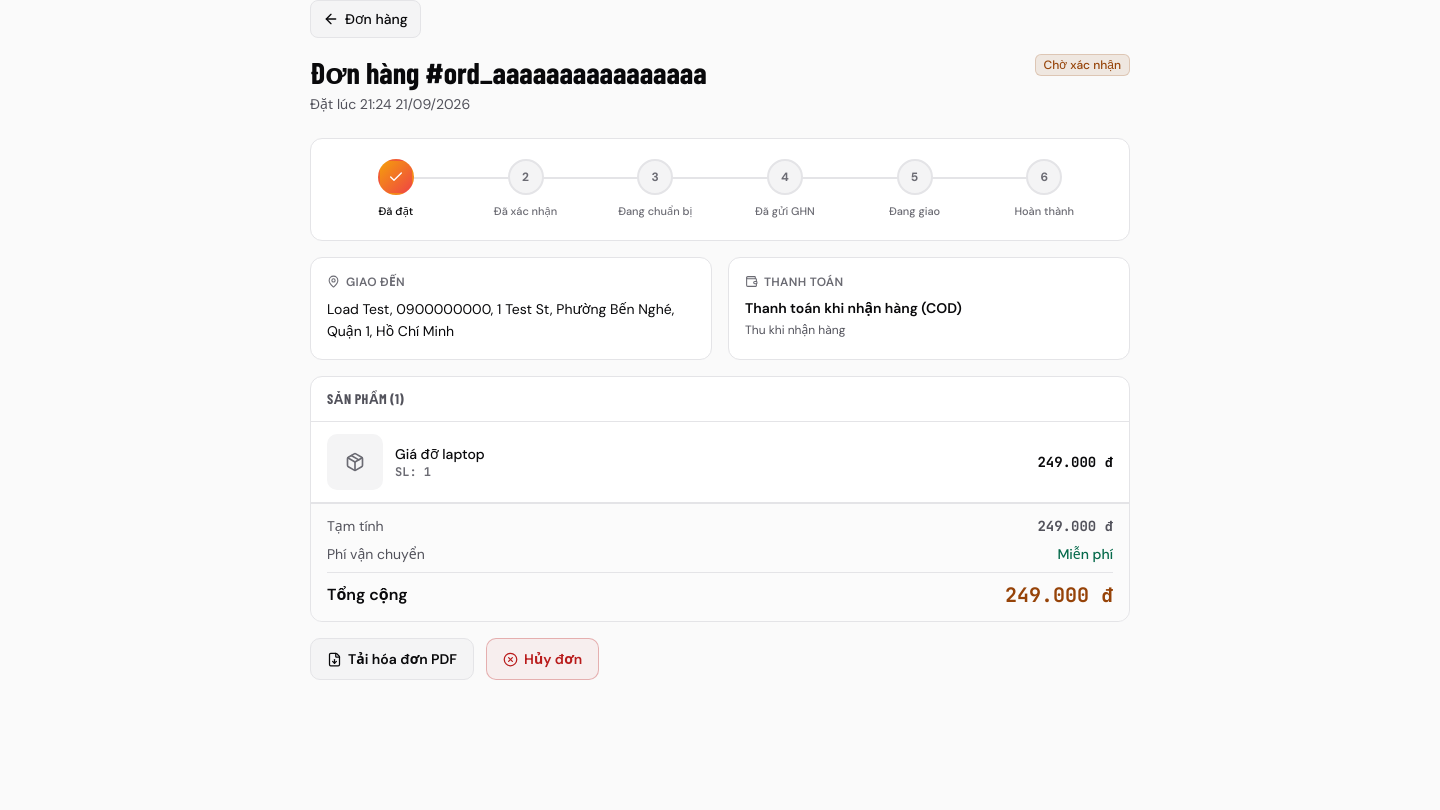
Test: OrderDetailPage cancel › asks before cancelling and sends nothing when the buyer keeps the order
Click the button "Hủy đơn". click: (543, 659)
box: x1=486 y1=638 x2=599 y2=680
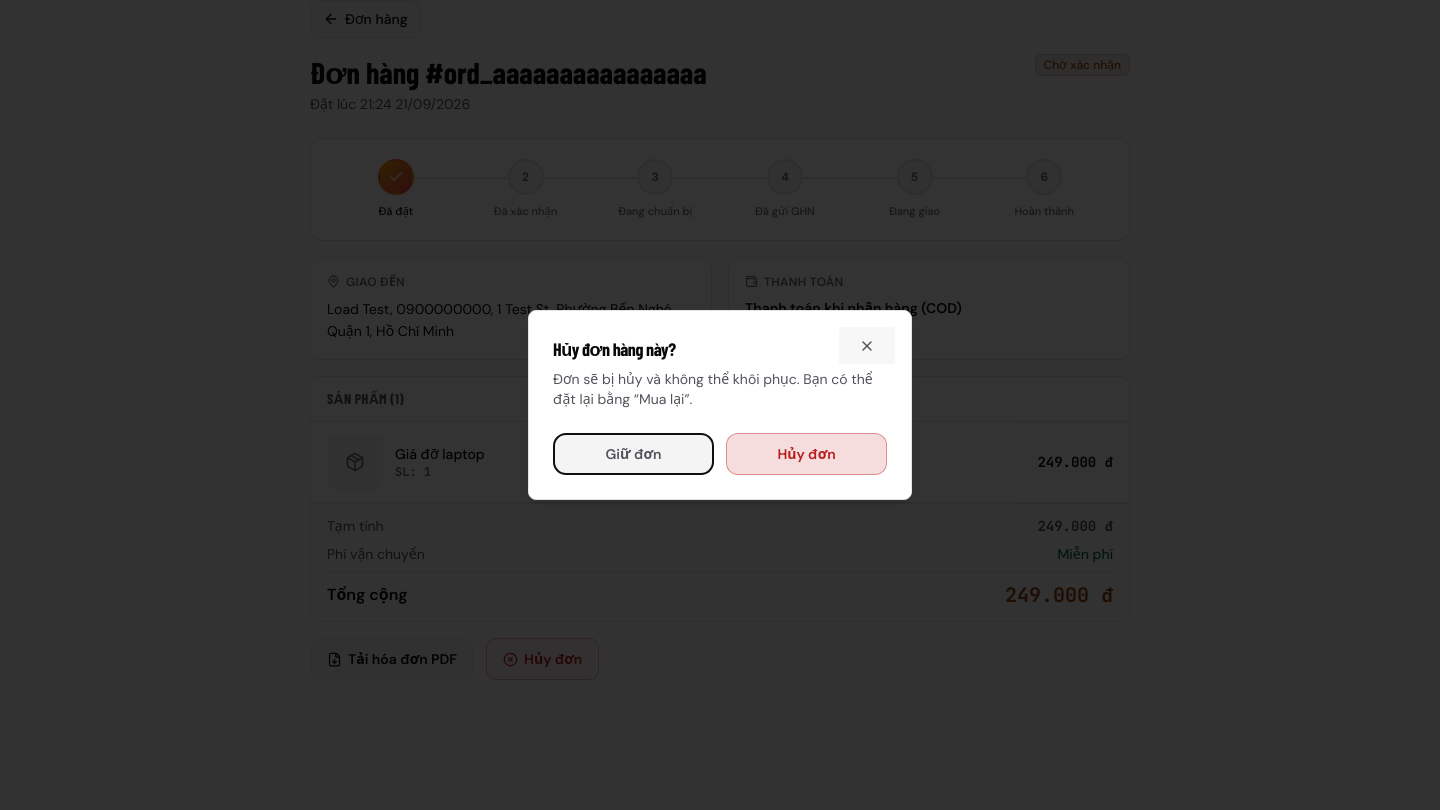
Expected: the heading "Hủy đơn hàng này?" is shown, x1=553 y1=338 x2=676 y2=360
Click the button "Giữ đơn". click: (634, 454)
box: x1=553 y1=433 x2=714 y2=475
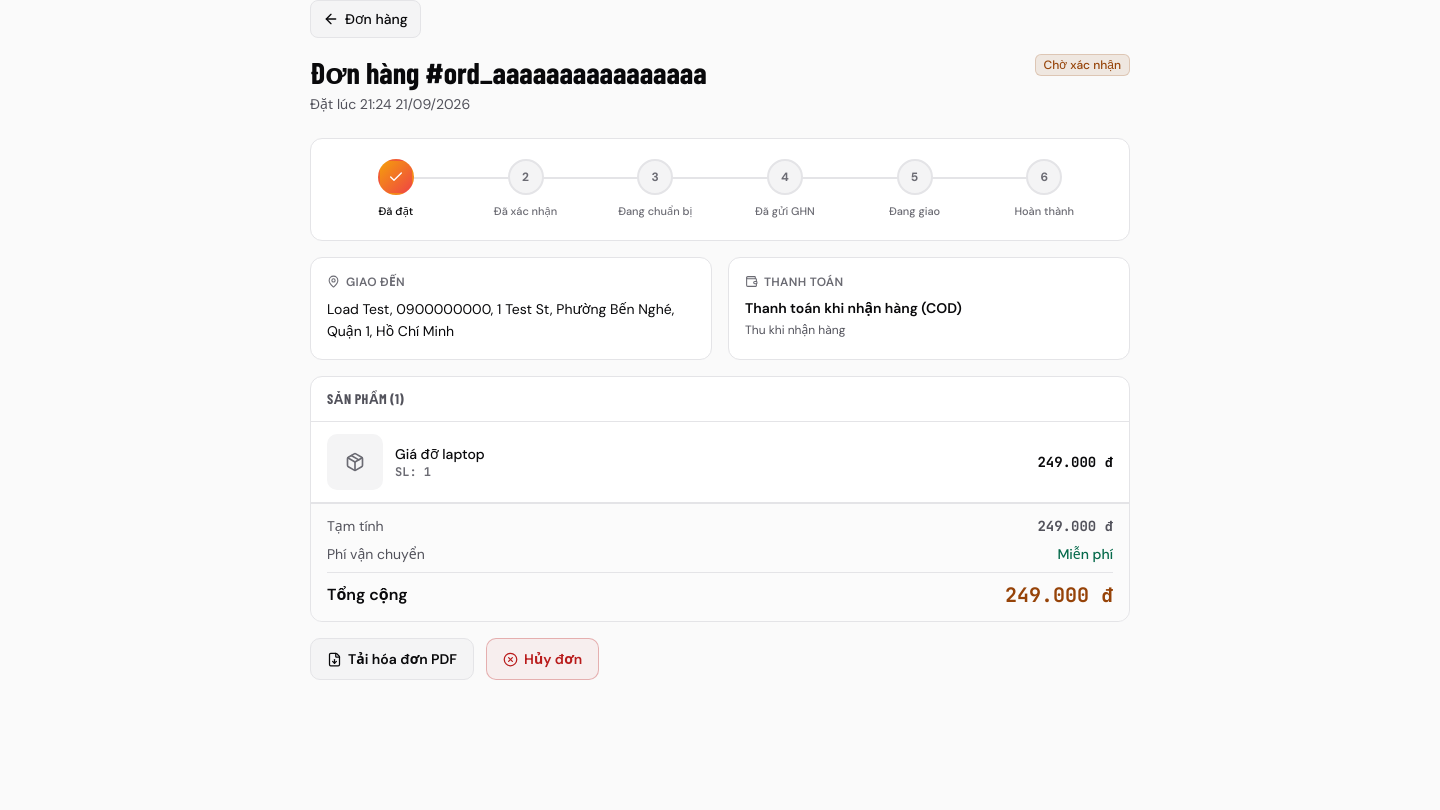
Expected: the heading "Hủy đơn hàng này?" is gone
